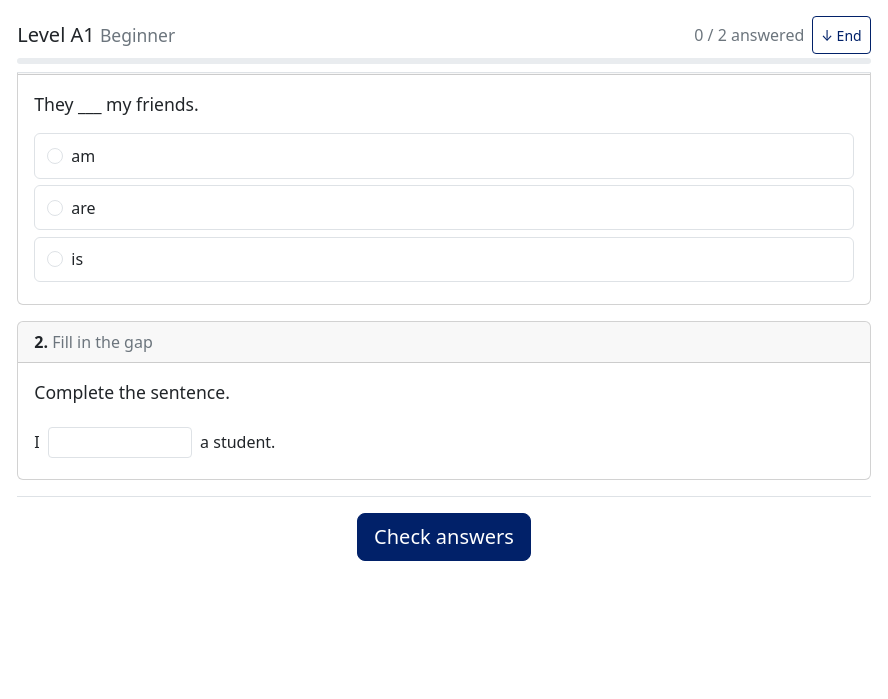
Test: QuizPage › lets the user retry and saves the result in the history
Expected: the button "Check answers" is shown, [357, 513, 531, 561]
Click the radio button labelled "are" at (55,208), box [47, 200, 63, 216]
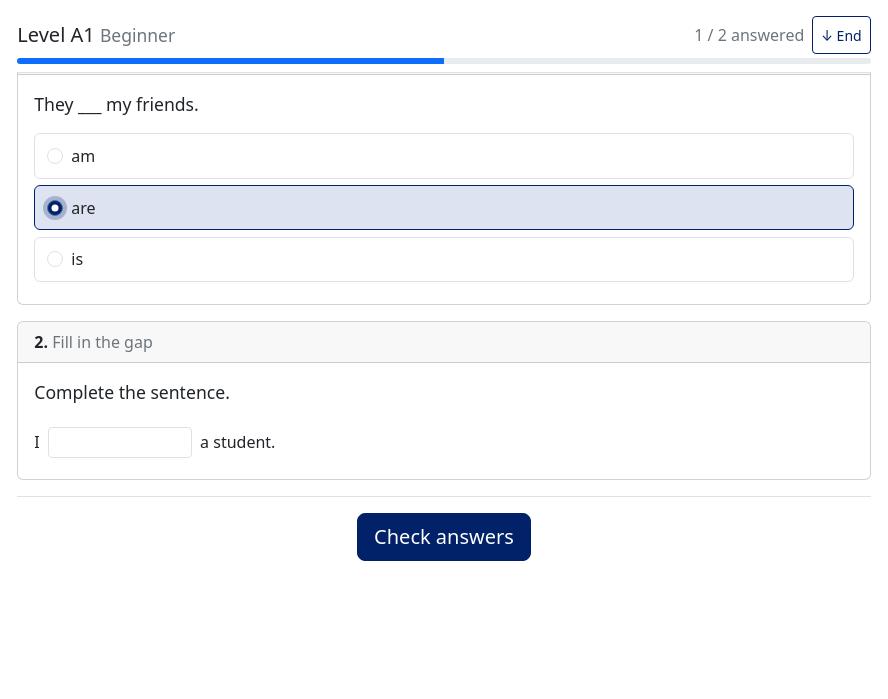
Type "am" into the field named "Gap 1" at (120,442), box [48, 426, 192, 458]
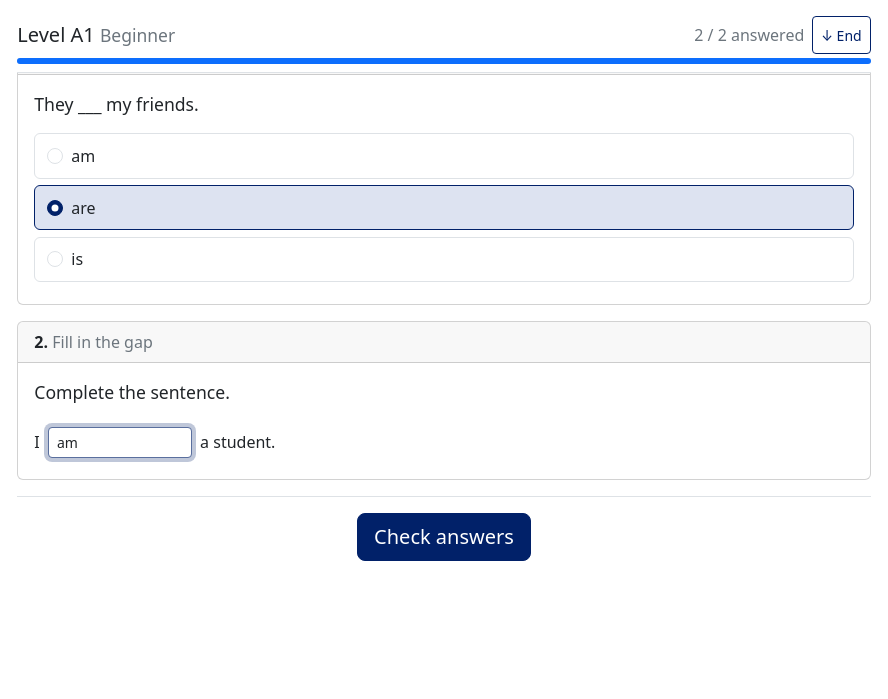
Click the button "Check answers" at (444,537), box [357, 513, 531, 561]
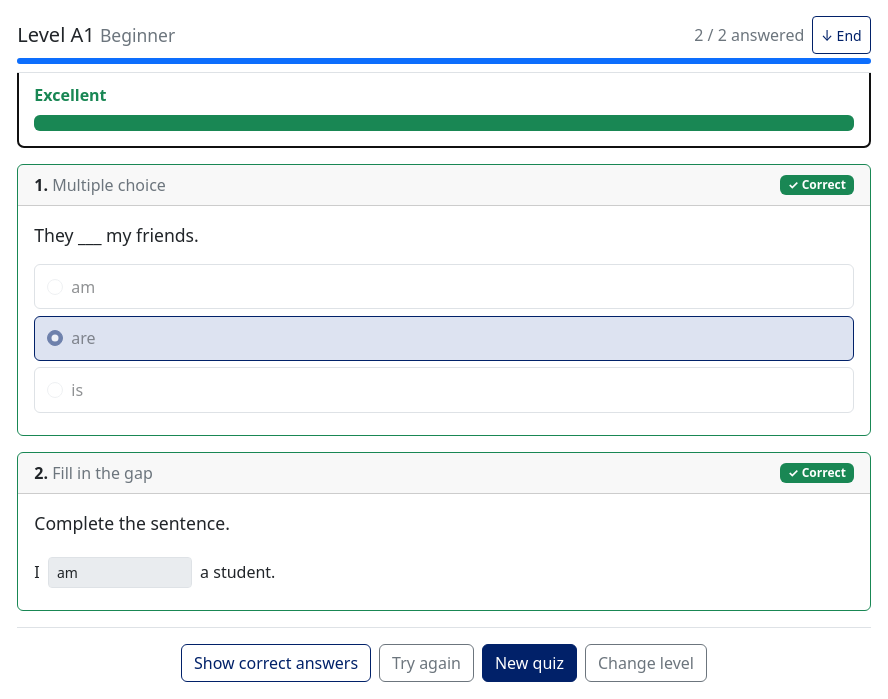
Click the button "Try again" at (426,663), box [379, 644, 474, 682]
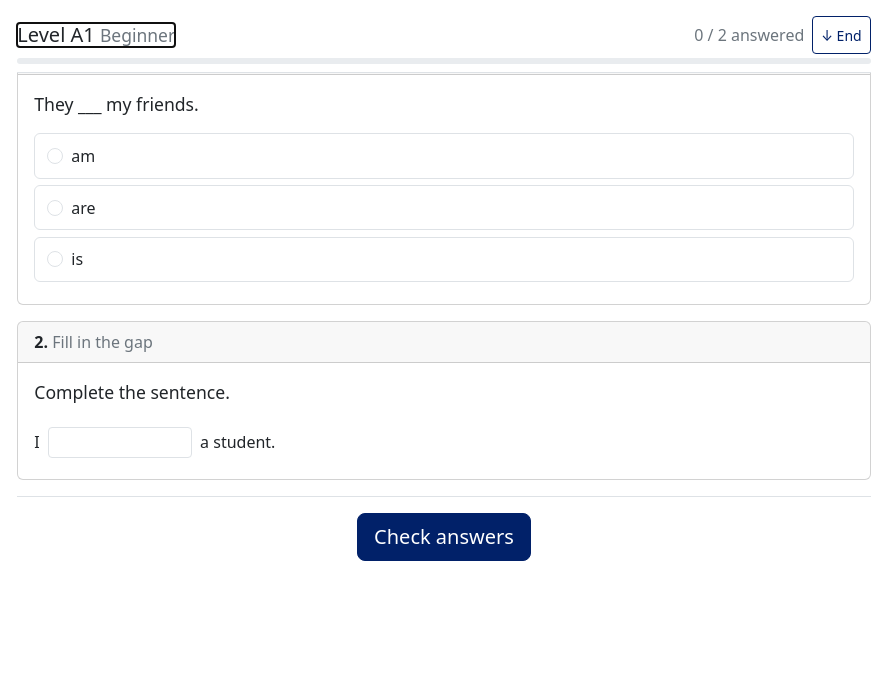
Now the heading "correct –" is gone
Now the field named "Gap 1" is empty, box [48, 426, 192, 458]
Now the button "Check answers" is shown, box [357, 513, 531, 561]
